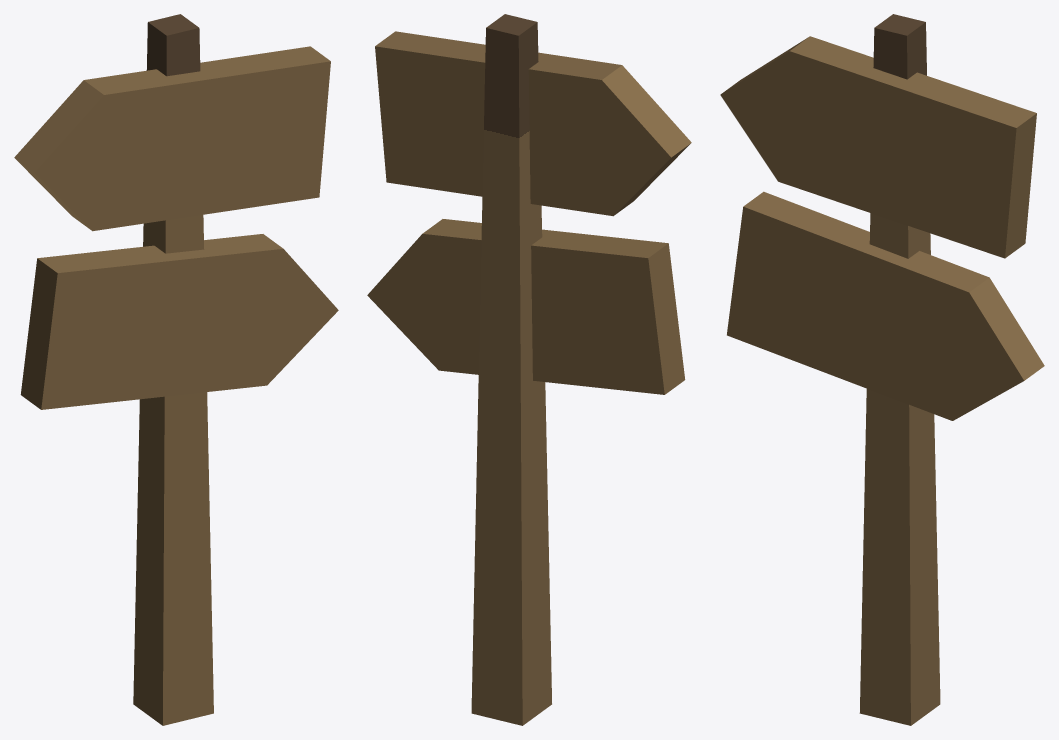
The model's file is marker-crossroads.glb.
3 views of the same model, side by side, from view 1: azimuth 30°, elevation 25°; view 2: azimuth 150°, elevation 25°; view 3: azimuth 330°, elevation 25° (orthographic).
Parts seen in each view (by area): view 1: marker-crossroads runtime mesh; view 2: marker-crossroads runtime mesh; view 3: marker-crossroads runtime mesh.
Boxes of the visible parts, x1,y1,x2,y2 form: marker-crossroads runtime mesh: (14,14,338,725); marker-crossroads runtime mesh: (367,14,691,725); marker-crossroads runtime mesh: (720,14,1044,725).
Bounding box in the file's own units: 0.4189 × 0.9 × 0.0841.
Materials: 1 (1 with a texture image).
